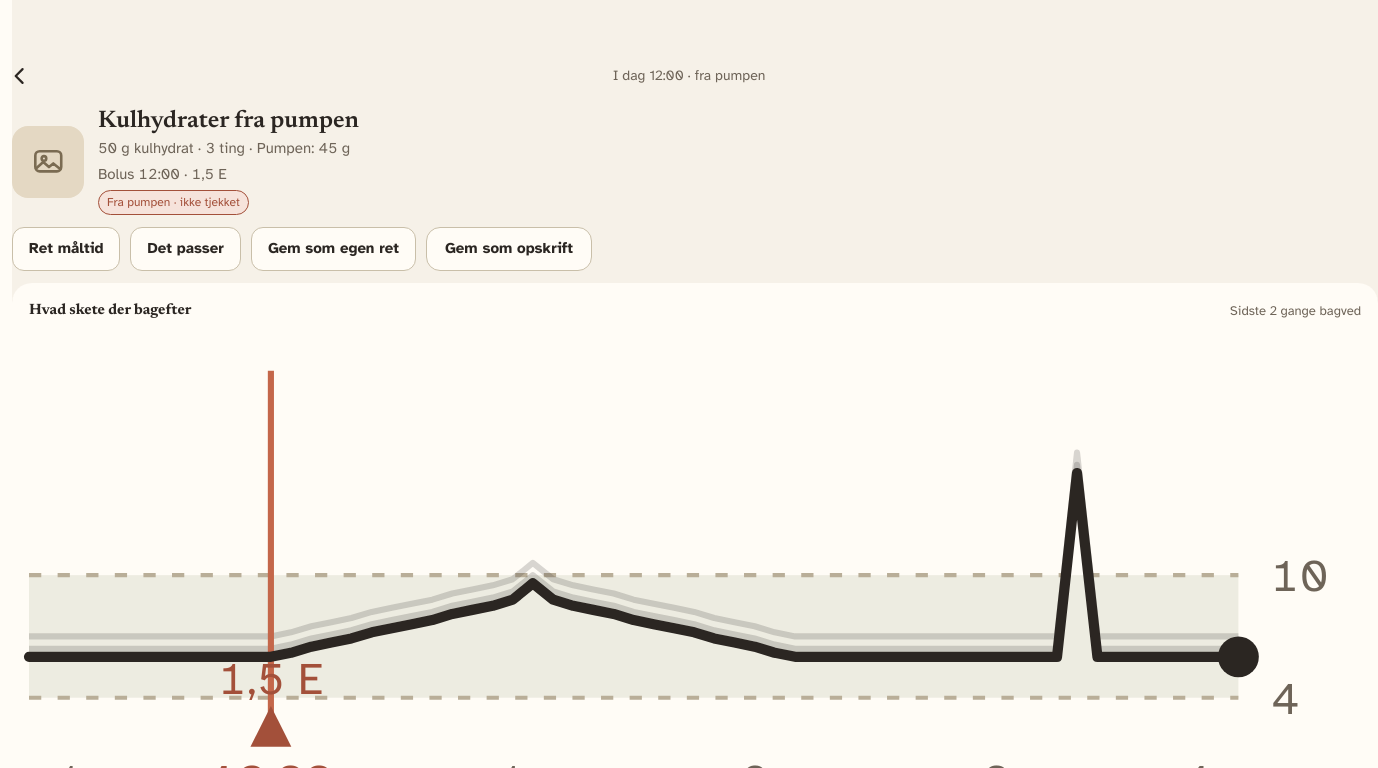
Test case: 'Det passer' on a pump meal (v0.7.0 plan §9) › phone: sends PATCH { adopt: true }, and the badge goes away once the meal reloads
Expected: the text "Fra pumpen · ikke tjekket" is shown, x1=98 y1=190 x2=249 y2=215
Click the button "Det passer": (186, 249) x1=130 y1=227 x2=241 y2=271
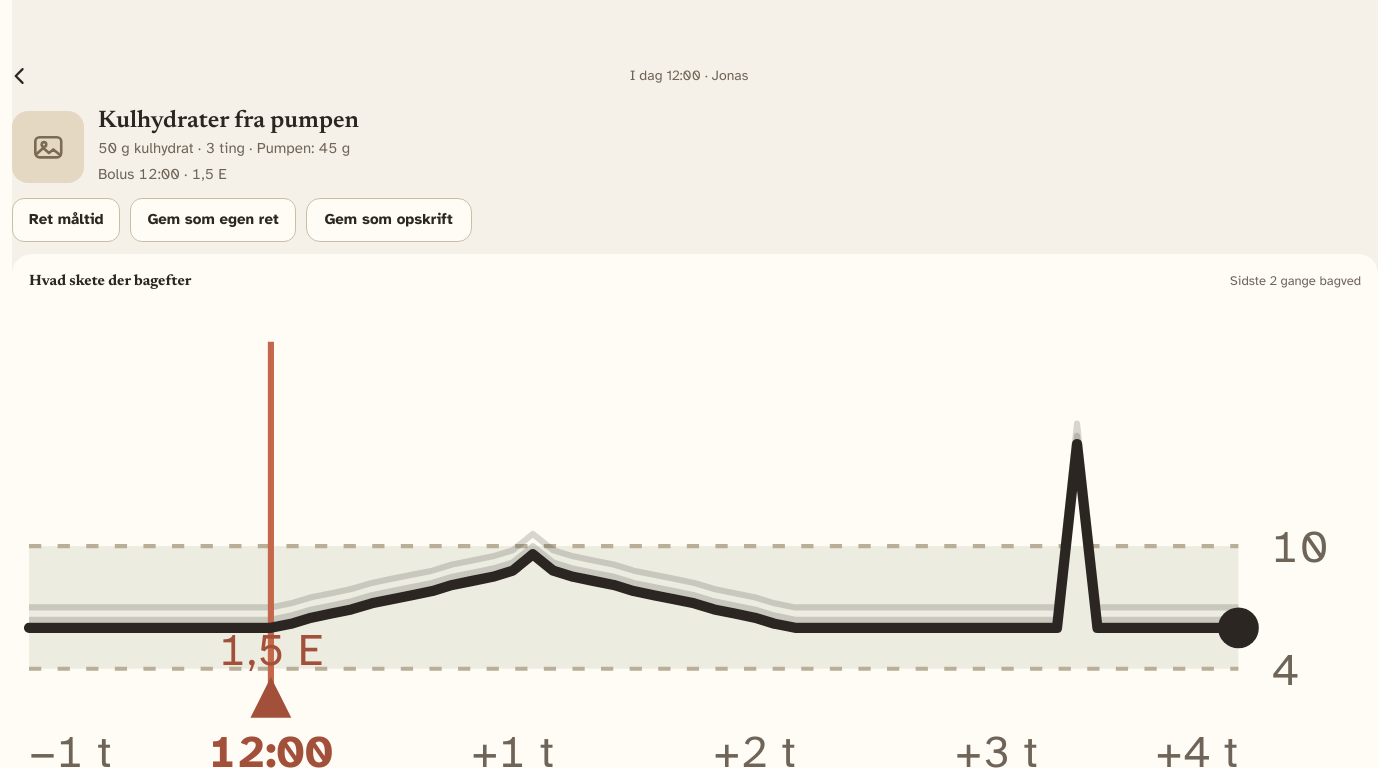
Result: the text "Fra pumpen · ikke tjekket" is gone
Result: the button "Det passer" is gone
